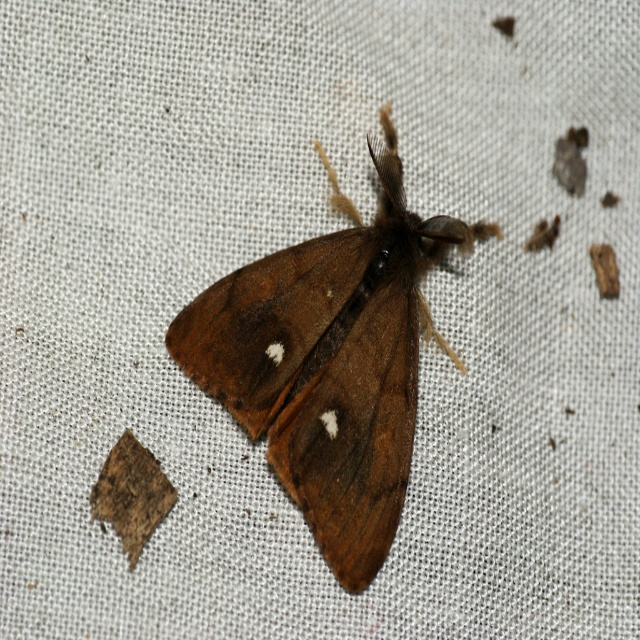Butterfly: (165, 103, 479, 594)
